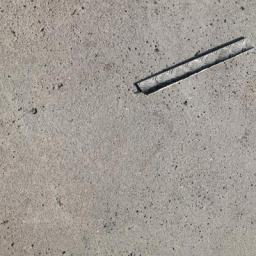FOD: (135, 36, 256, 98)
